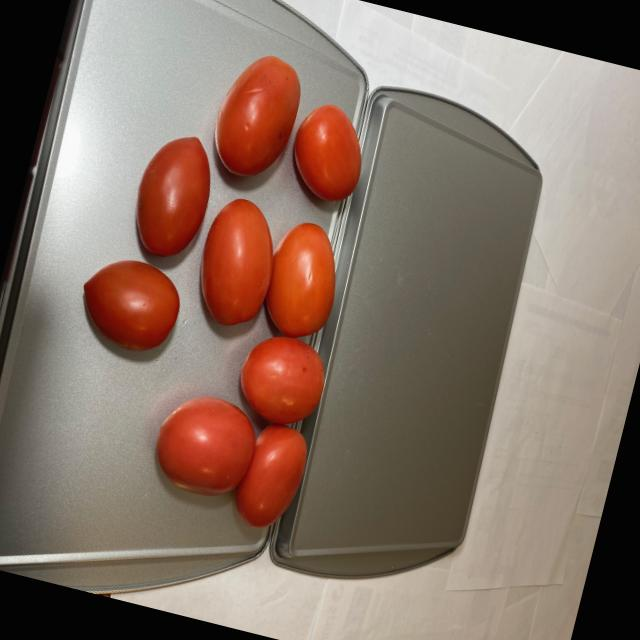tomato: (34, 23, 398, 537)
